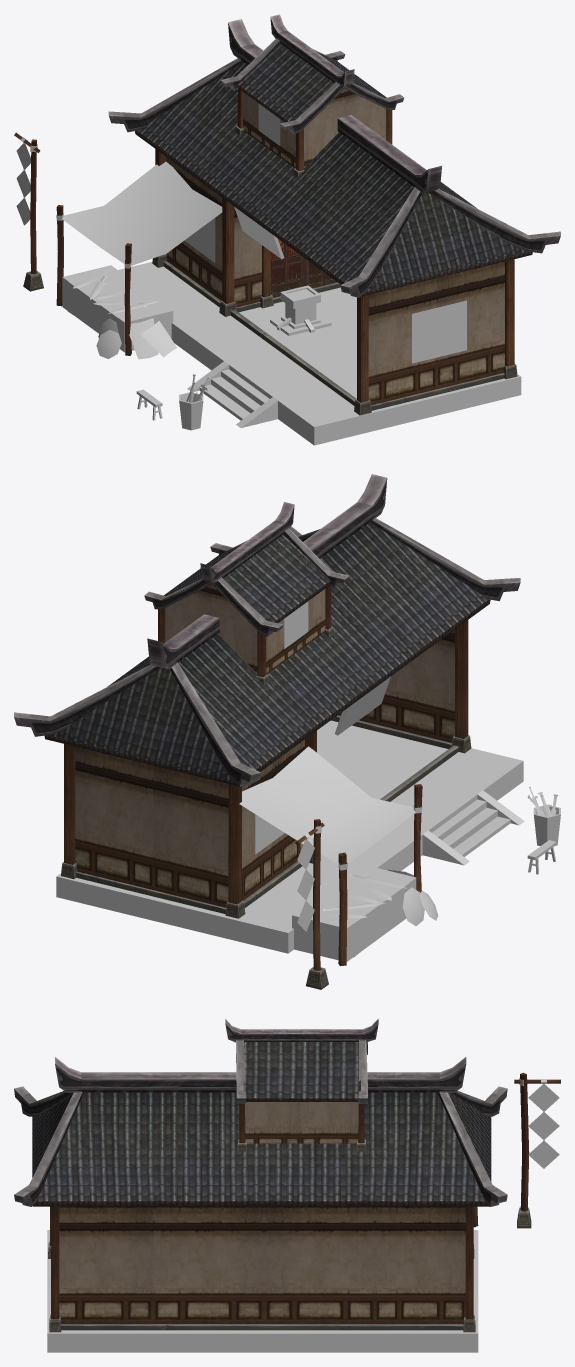
File: s7_unioncity_jianzhu_tiejiangpu3.FBX
3 views of the same model, one above another, from view 1: azimuth 30°, elevation 25°; view 2: azimuth 150°, elevation 25°; view 3: azimuth 270°, elevation 25° (orthographic). The views are drawn at different scales.
Visible parts, largest first — view 1: s7, work; view 2: s7, work; view 3: s7, work.
Boxes of the visible parts, x1,y1,x2,y2 form: s7: (14, 14, 560, 415); work: (16, 103, 521, 445); s7: (14, 474, 520, 989); work: (56, 601, 560, 961); s7: (14, 1019, 560, 1332); work: (47, 1078, 559, 1352).
Bounding box in the file's own units: 10.48 × 8.62 × 14.66.
